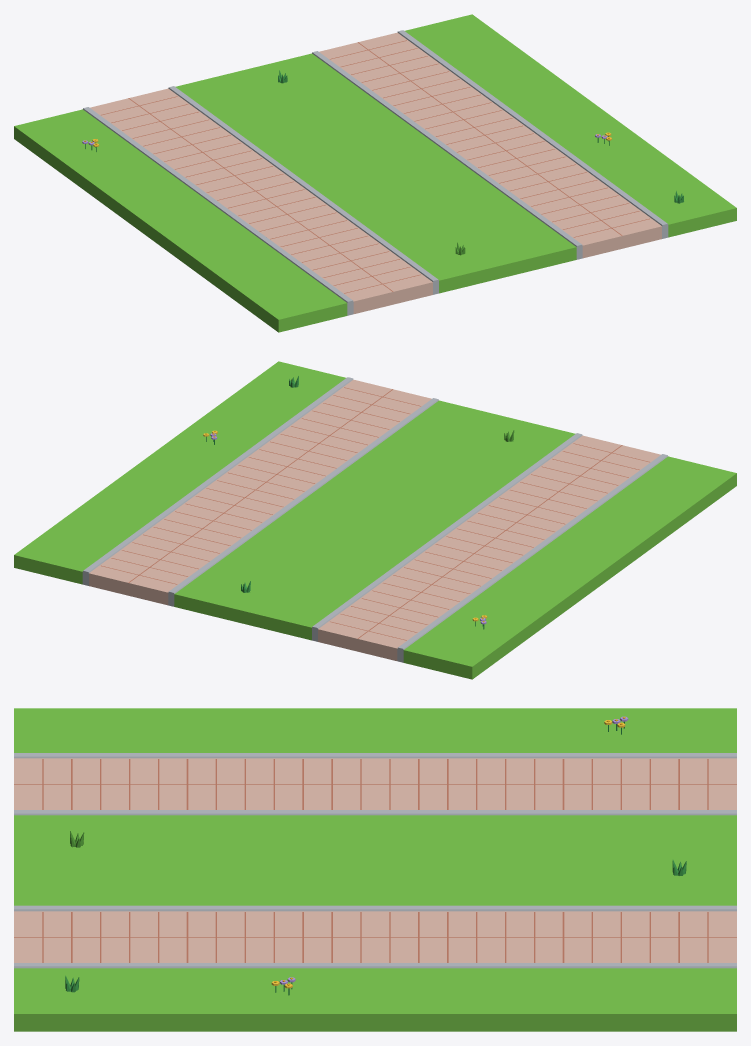
File: caminho_parque_duplo.glb
3 renders of one model, top to bottom at view 1: azimuth 30°, elevation 25°; view 2: azimuth 150°, elevation 25°; view 3: azimuth 270°, elevation 25°, orthographic. The views are drawn at different scales.
Parts seen in each view (by area): view 1: caminho_parque_duplo; view 2: caminho_parque_duplo; view 3: caminho_parque_duplo.
Part boxes in pixels (left/top/right/bottom): caminho_parque_duplo: left=14, top=14, right=736, bottom=332; caminho_parque_duplo: left=14, top=361, right=736, bottom=679; caminho_parque_duplo: left=14, top=708, right=736, bottom=1031.
Size of the model in its own units: 15 by 0.6825 by 15.
1 material, 1 textured.
